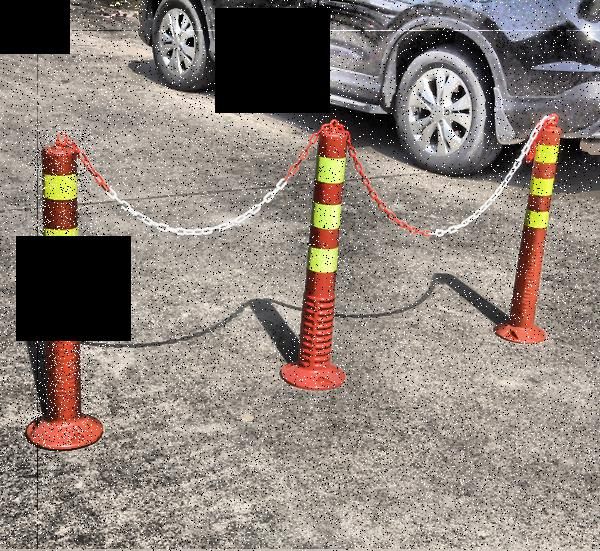bench: (33, 130, 93, 448), (494, 116, 571, 344), (291, 116, 348, 390)
